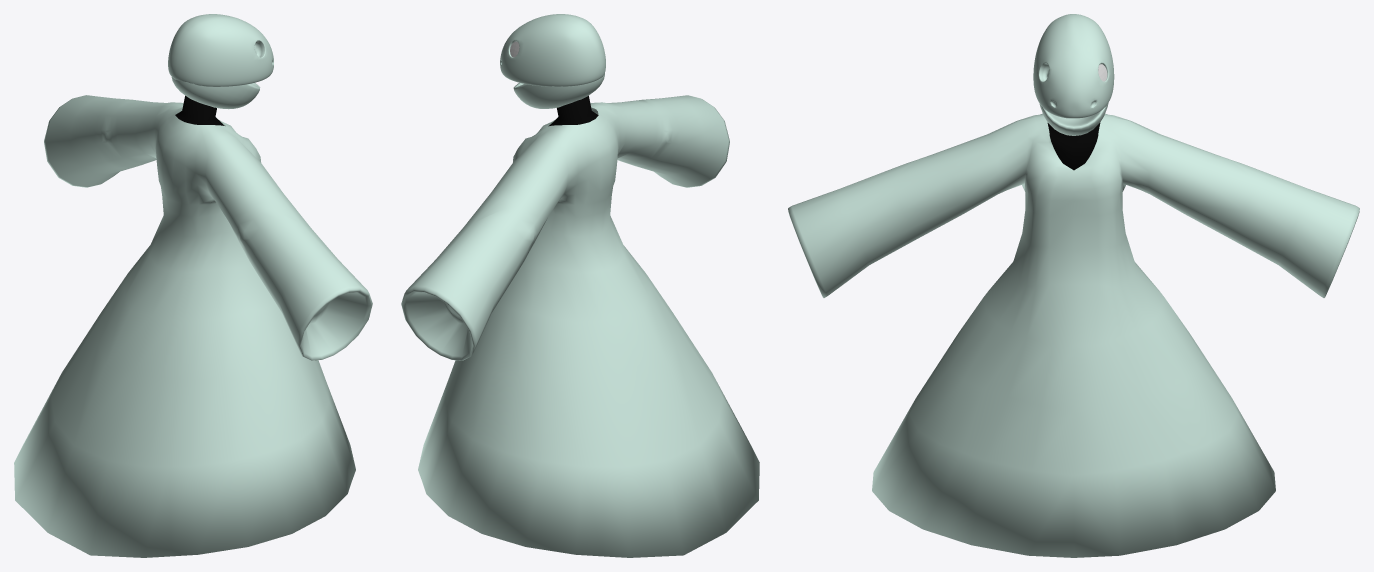
File: villana.fbx
3 renders of one model, left to right at view 1: azimuth 30°, elevation 25°; view 2: azimuth 150°, elevation 25°; view 3: azimuth 270°, elevation 25°, orthographic. The views are drawn at different scales.
Parts seen in each view (by area): view 1: Head; view 2: Head; view 3: Head.
Boxes of the visible parts, x1=… form: Head: x1=14, y1=14, x2=372, y2=557; Head: x1=401, y1=14, x2=759, y2=557; Head: x1=788, y1=14, x2=1359, y2=557.
Bounding box in the file's own units: 190 × 307 × 311.
